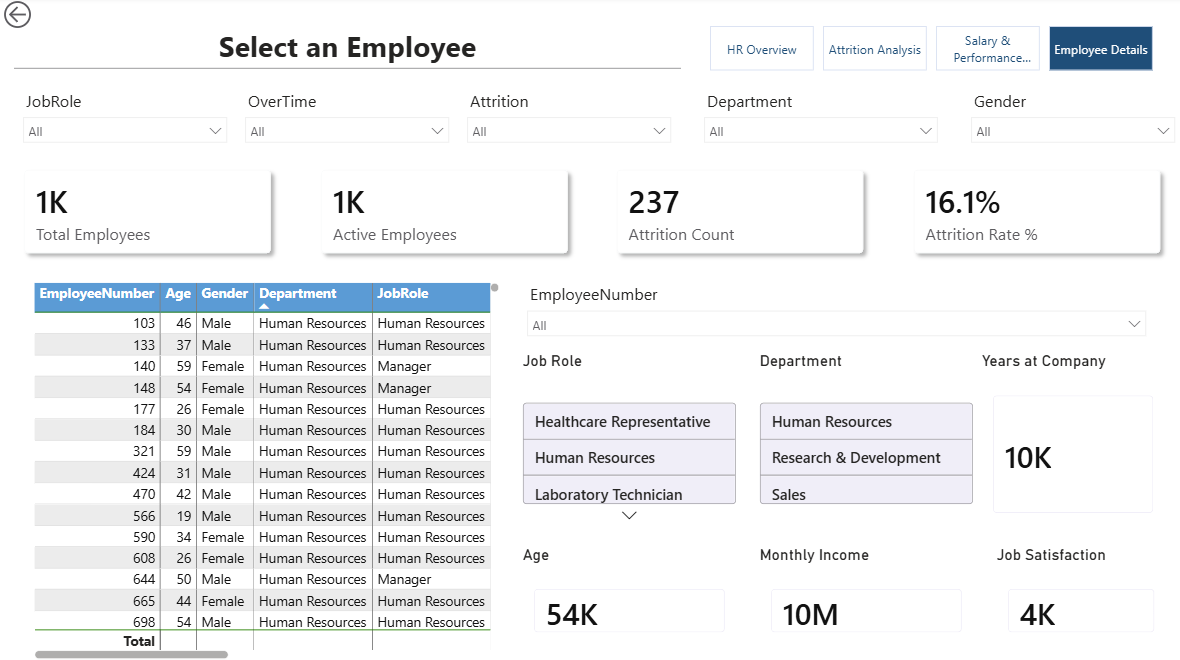

Layout of this report page (visuals, bound fields, positions):
{"tool":"powerbi","page":{"name":"Employee Details","canvas":[1280,720],"ordinal":3},"visuals":[{"type":"textbox","box":[16,32,720,64],"z":0},{"type":"tableEx","fields":{"Values":["Employee.EmployeeNumber","Employee.Age","Employee.Gender","Employee.Department","Employee.JobRole","Employee.MonthlyIncome","Employee.JobSatisfaction","Employee.PerformanceRating","Employee.OverTime","Employee.YearsAtCompany","Employee.Attrition"]},"box":[32,304,512,416],"z":1},{"type":"slicer","fields":{"Values":["Employee.JobRole"]},"box":[16,96,240,80],"z":2},{"type":"slicer","fields":{"Values":["Employee.Attrition"]},"box":[496,96,240,80],"z":3},{"type":"slicer","fields":{"Values":["Employee.Department"]},"box":[752,96,272,80],"z":4},{"type":"slicer","fields":{"Values":["Employee.Gender"]},"box":[1040,96,240,80],"z":5},{"type":"slicer","fields":{"Values":["Employee.OverTime"]},"box":[256,96,240,80],"z":6},{"type":"cardVisual","fields":{"Data":["_Measures.Total Employees"]},"box":[0,160,320,144],"z":7},{"type":"cardVisual","fields":{"Data":["_Measures.Active Employees"]},"box":[320,160,320,144],"z":8},{"type":"cardVisual","fields":{"Data":["_Measures.Attrition Count"]},"box":[640,160,320,144],"z":9},{"type":"cardVisual","fields":{"Data":["_Measures.Attrition Rate %"]},"box":[960,160,320,144],"z":10},{"type":"slicer","fields":{"Values":["Employee.EmployeeNumber"]},"box":[560,304,688,80],"z":11},{"type":"cardVisual","title":"Monthly Income","fields":{"Data":["Sum(Employee.MonthlyIncome)"]},"box":[816,592,240,112],"z":12},{"type":"cardVisual","title":"Department","fields":{"Rows":["Employee.Department"]},"box":[816,384,240,192],"z":13},{"type":"cardVisual","title":"Age","fields":{"Data":["Sum(Employee.Age)"]},"box":[560,592,240,112],"z":14},{"type":"cardVisual","title":"Job Role","fields":{"Rows":["Employee.JobRole"]},"box":[560,384,240,192],"z":15},{"type":"cardVisual","title":"Years at Company","fields":{"Data":["Sum(Employee.YearsAtCompany)"]},"box":[1056,384,208,192],"z":16},{"type":"cardVisual","title":"Job Satisfaction","fields":{"Data":["Sum(Employee.JobSatisfaction)"]},"box":[1072,592,192,112],"z":17},{"type":"actionButton","box":[0,0,100,40],"z":18},{"type":"pageNavigator","box":[768,32,480,48],"z":19}]}

Visuals, with their boxes in screenshot pixels (x1, y1, x2, y2), scaled from the page's 1280x720 canvas onto the 1180x660 screenshot:
textbox: {"left": 15, "top": 29, "right": 678, "bottom": 88}
tableEx - Employee.EmployeeNumber x Employee.Age: {"left": 30, "top": 279, "right": 502, "bottom": 659}
slicer - Employee.JobRole: {"left": 15, "top": 88, "right": 236, "bottom": 161}
slicer - Employee.Attrition: {"left": 457, "top": 88, "right": 678, "bottom": 161}
slicer - Employee.Department: {"left": 693, "top": 88, "right": 944, "bottom": 161}
slicer - Employee.Gender: {"left": 959, "top": 88, "right": 1179, "bottom": 161}
slicer - Employee.OverTime: {"left": 236, "top": 88, "right": 457, "bottom": 161}
cardVisual - _Measures.Total Employees: {"left": 0, "top": 147, "right": 295, "bottom": 279}
cardVisual - _Measures.Active Employees: {"left": 295, "top": 147, "right": 590, "bottom": 279}
cardVisual - _Measures.Attrition Count: {"left": 590, "top": 147, "right": 885, "bottom": 279}
cardVisual - _Measures.Attrition Rate %: {"left": 885, "top": 147, "right": 1179, "bottom": 279}
slicer - Employee.EmployeeNumber: {"left": 516, "top": 279, "right": 1150, "bottom": 352}
"Monthly Income" cardVisual: {"left": 752, "top": 543, "right": 974, "bottom": 645}
"Department" cardVisual: {"left": 752, "top": 352, "right": 974, "bottom": 528}
"Age" cardVisual: {"left": 516, "top": 543, "right": 738, "bottom": 645}
"Job Role" cardVisual: {"left": 516, "top": 352, "right": 738, "bottom": 528}
"Years at Company" cardVisual: {"left": 974, "top": 352, "right": 1165, "bottom": 528}
"Job Satisfaction" cardVisual: {"left": 988, "top": 543, "right": 1165, "bottom": 645}
actionButton: {"left": 0, "top": 0, "right": 92, "bottom": 37}
pageNavigator: {"left": 708, "top": 29, "right": 1150, "bottom": 73}
